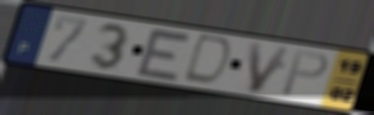3: (88, 22, 133, 71)
7: (46, 13, 91, 65)
D: (179, 33, 235, 88)
E: (133, 26, 195, 84)
P: (279, 49, 332, 98)
V: (246, 40, 294, 95)
